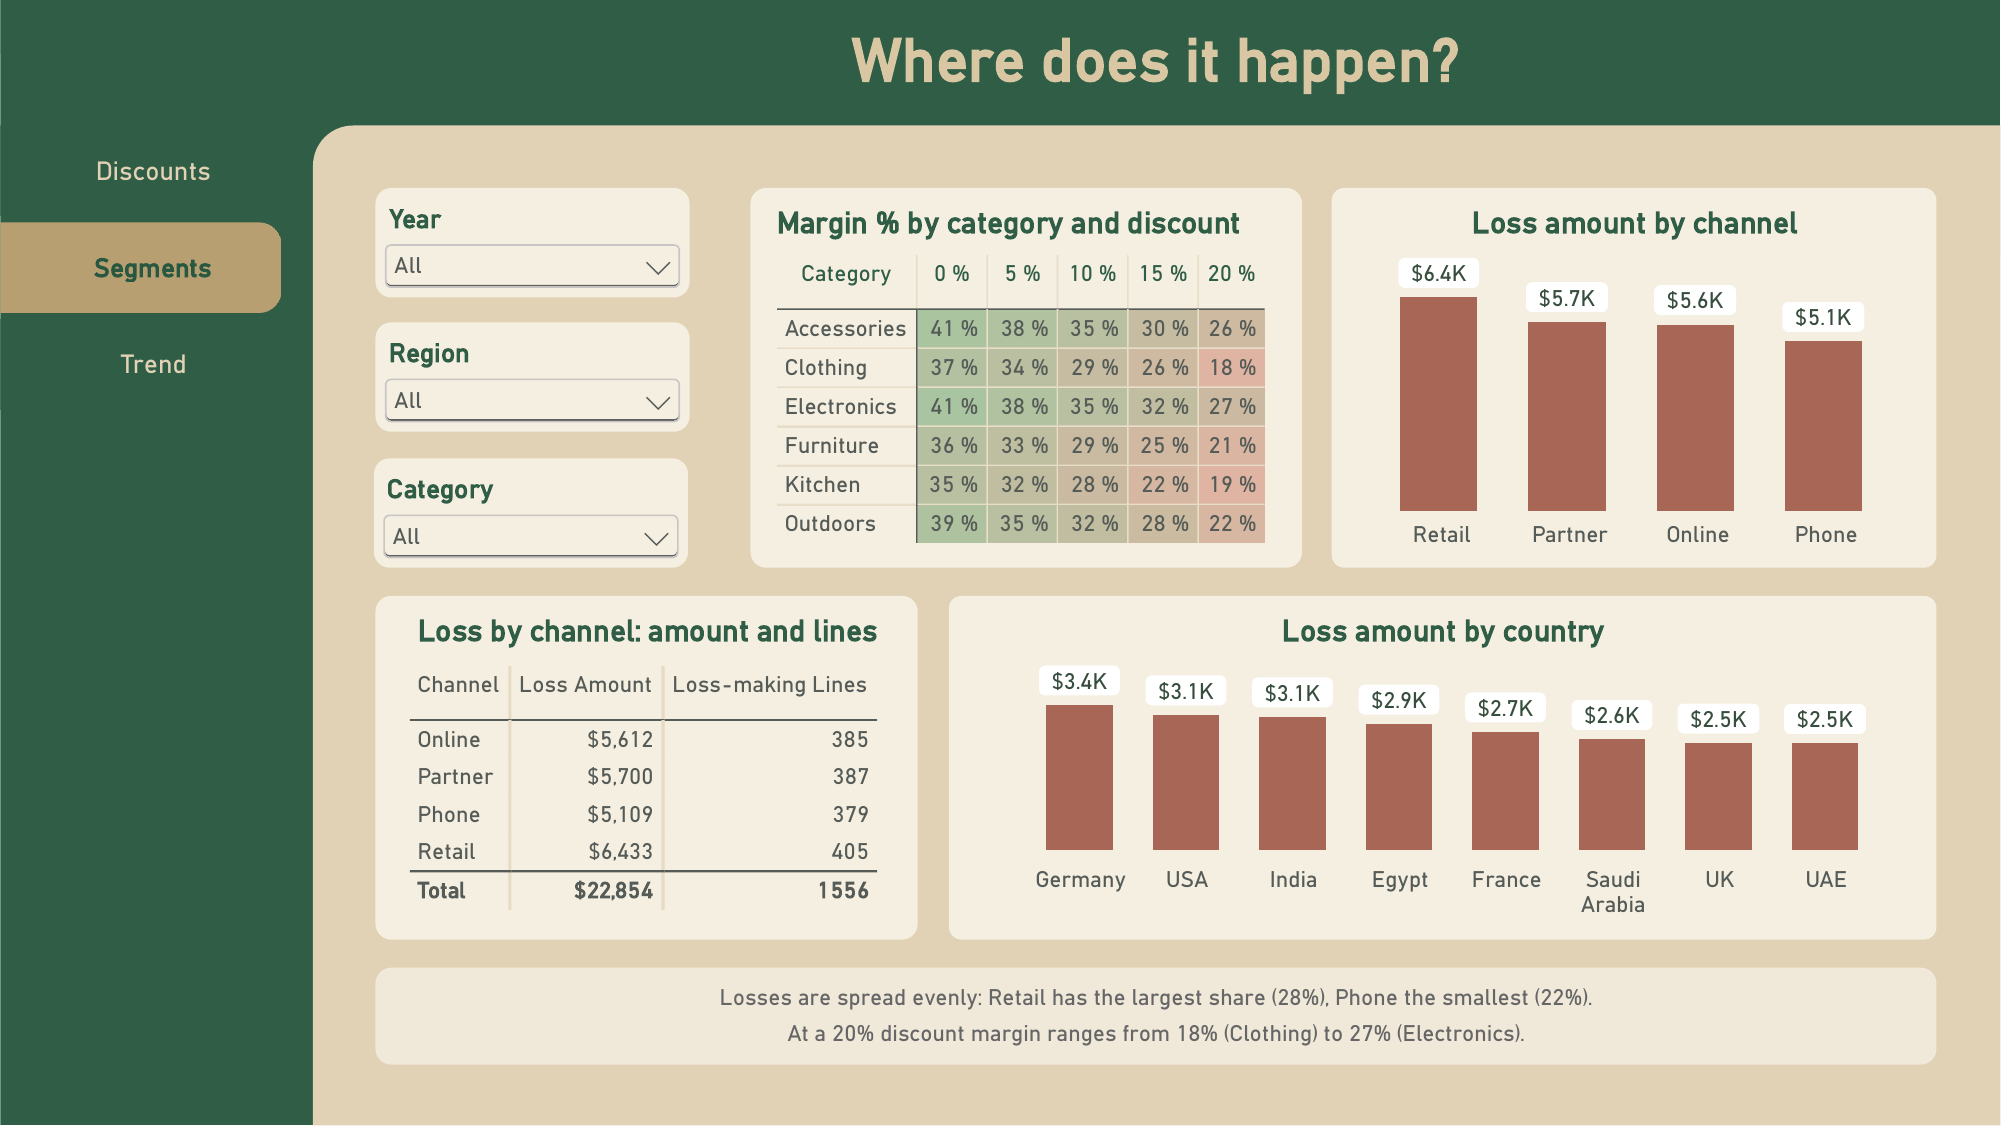

This screenshot's page, from the dashboard's own definition file:
{"tool":"powerbi","page":{"name":"Segments","canvas":[1280,720],"ordinal":1},"visuals":[{"type":"shape","box":[200.4,80,1080,640],"z":0},{"type":"textbox","box":[200.4,16,1079.6,60],"z":1000},{"type":"pageNavigator","box":[0,79.8,200.4,182.9],"z":2000},{"type":"slicer","fields":{"Values":["DimDate.Year"]},"box":[240.2,120,200.4,70],"z":3000},{"type":"slicer","fields":{"Values":["DimGeography.Region"]},"box":[239.9,206.3,200.9,69.9],"z":4000},{"type":"slicer","fields":{"Values":["DimProduct.Category"]},"box":[239,293,200.9,69.9],"z":5000},{"type":"pivotTable","title":"Margin % by category and discount","fields":{"Columns":["FactSales.Discount"],"Rows":["DimProduct.Category"],"Values":["FactSales.Margin %"]},"box":[479.8,119.5,353.2,243.4],"z":6000},{"type":"clusteredColumnChart","title":"Loss amount by channel","fields":{"Category":["FactSales.Channel"],"Y":["FactSales.Loss Amount"]},"box":[852.4,119.5,386.8,243.4],"z":7000},{"type":"clusteredColumnChart","title":"Loss amount by country","fields":{"Category":["DimGeography.Country"],"Y":["FactSales.Loss Amount"]},"box":[606.9,380.6,632,220.4],"z":8000},{"type":"tableEx","title":"Loss by channel: amount and lines","fields":{"Values":["FactSales.Channel","FactSales.Loss Amount","FactSales.Loss-making Lines"]},"box":[240.5,380.6,347,220.4],"z":9000},{"type":"shape","box":[240.4,619,998.6,62.1],"z":9001},{"type":"cardVisual","fields":{"Data":["FactSales.Seg Line 1"]},"box":[240.4,623,998.6,28],"z":9002},{"type":"cardVisual","fields":{"Data":["FactSales.Seg Line 2"]},"box":[240.4,646,998.6,28],"z":9003}]}

Visuals, with their boxes in screenshot pixels (x1, y1, x2, y2), scaled from the page's 1280x720 canvas onto the 2001x1126 screenshot:
shape: {"x1": 313, "y1": 125, "x2": 2000, "y2": 1125}
textbox: {"x1": 313, "y1": 25, "x2": 2000, "y2": 119}
pageNavigator: {"x1": 0, "y1": 125, "x2": 313, "y2": 411}
slicer - DimDate.Year: {"x1": 376, "y1": 188, "x2": 689, "y2": 297}
slicer - DimGeography.Region: {"x1": 375, "y1": 323, "x2": 689, "y2": 432}
slicer - DimProduct.Category: {"x1": 374, "y1": 458, "x2": 688, "y2": 568}
"Margin % by category and discount" pivotTable: {"x1": 750, "y1": 187, "x2": 1302, "y2": 568}
"Loss amount by channel" clusteredColumnChart: {"x1": 1333, "y1": 187, "x2": 1937, "y2": 568}
"Loss amount by country" clusteredColumnChart: {"x1": 949, "y1": 595, "x2": 1937, "y2": 940}
"Loss by channel: amount and lines" tableEx: {"x1": 376, "y1": 595, "x2": 918, "y2": 940}
shape: {"x1": 376, "y1": 968, "x2": 1937, "y2": 1065}
cardVisual - FactSales.Seg Line 1: {"x1": 376, "y1": 974, "x2": 1937, "y2": 1018}
cardVisual - FactSales.Seg Line 2: {"x1": 376, "y1": 1010, "x2": 1937, "y2": 1054}
